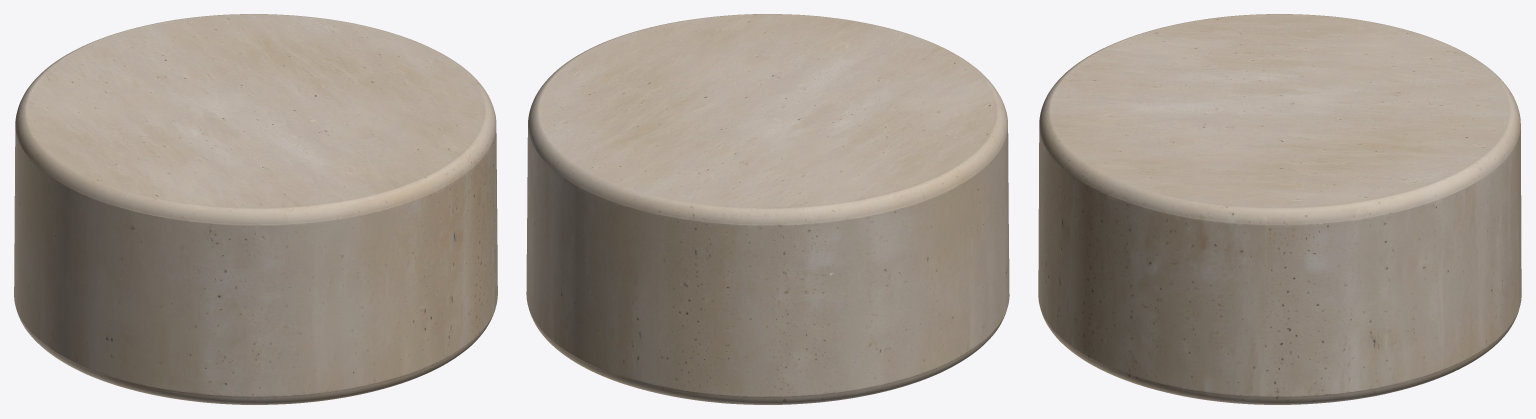
File: alt_ctable_travertine.glb
The picture shows the model from 3 angles, left to right: view 1: azimuth 30°, elevation 25°; view 2: azimuth 150°, elevation 25°; view 3: azimuth 270°, elevation 25°; orthographic projection.
Visible parts, largest first — view 1: node_0; view 2: node_0; view 3: node_0.
Part boxes in pixels (left/top/right/bottom): node_0: left=14, top=14, right=497, bottom=404; node_0: left=526, top=14, right=1009, bottom=404; node_0: left=1038, top=14, right=1521, bottom=404.
Bounding box in the file's own units: 1.11 × 0.498 × 1.11.
Materials: 1 (1 with a texture image).
